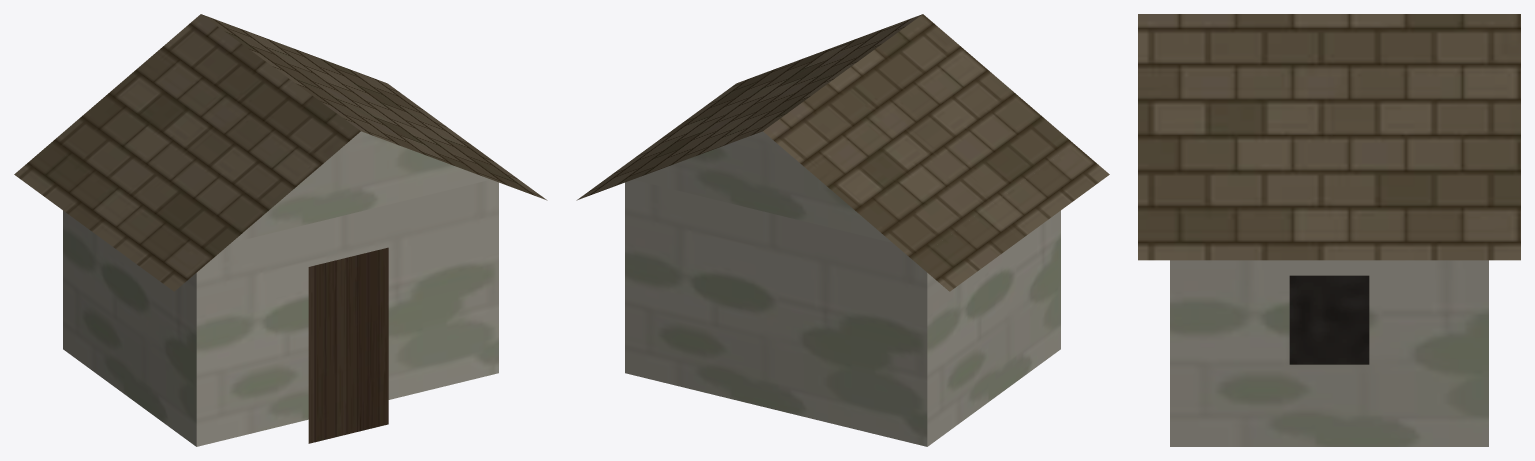
File: ae_forest_stone_small_booth_lod2.glb
The picture shows the model from 3 angles, left to right: view 1: azimuth 30°, elevation 25°; view 2: azimuth 150°, elevation 25°; view 3: azimuth 270°, elevation 25°; orthographic projection. The views are drawn at different scales.
Visible parts, largest first — view 1: ae_forest_stone_small_booth_lod2; view 2: ae_forest_stone_small_booth_lod2; view 3: ae_forest_stone_small_booth_lod2.
Boxes of the visible parts, x1=… form: ae_forest_stone_small_booth_lod2: x1=14, y1=14, x2=547, y2=446; ae_forest_stone_small_booth_lod2: x1=576, y1=14, x2=1109, y2=446; ae_forest_stone_small_booth_lod2: x1=1138, y1=14, x2=1520, y2=446.
Size of the model in its own units: 4.2 by 3.35 by 3.12.
1 material, 1 textured.
